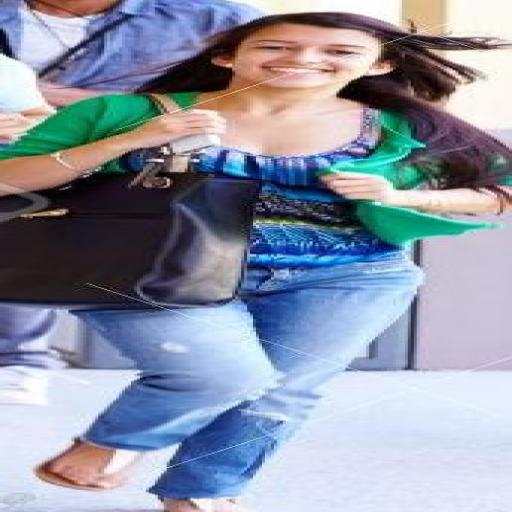person: (0, 13, 511, 511), (0, 0, 261, 107), (0, 306, 53, 404), (0, 54, 53, 144)
